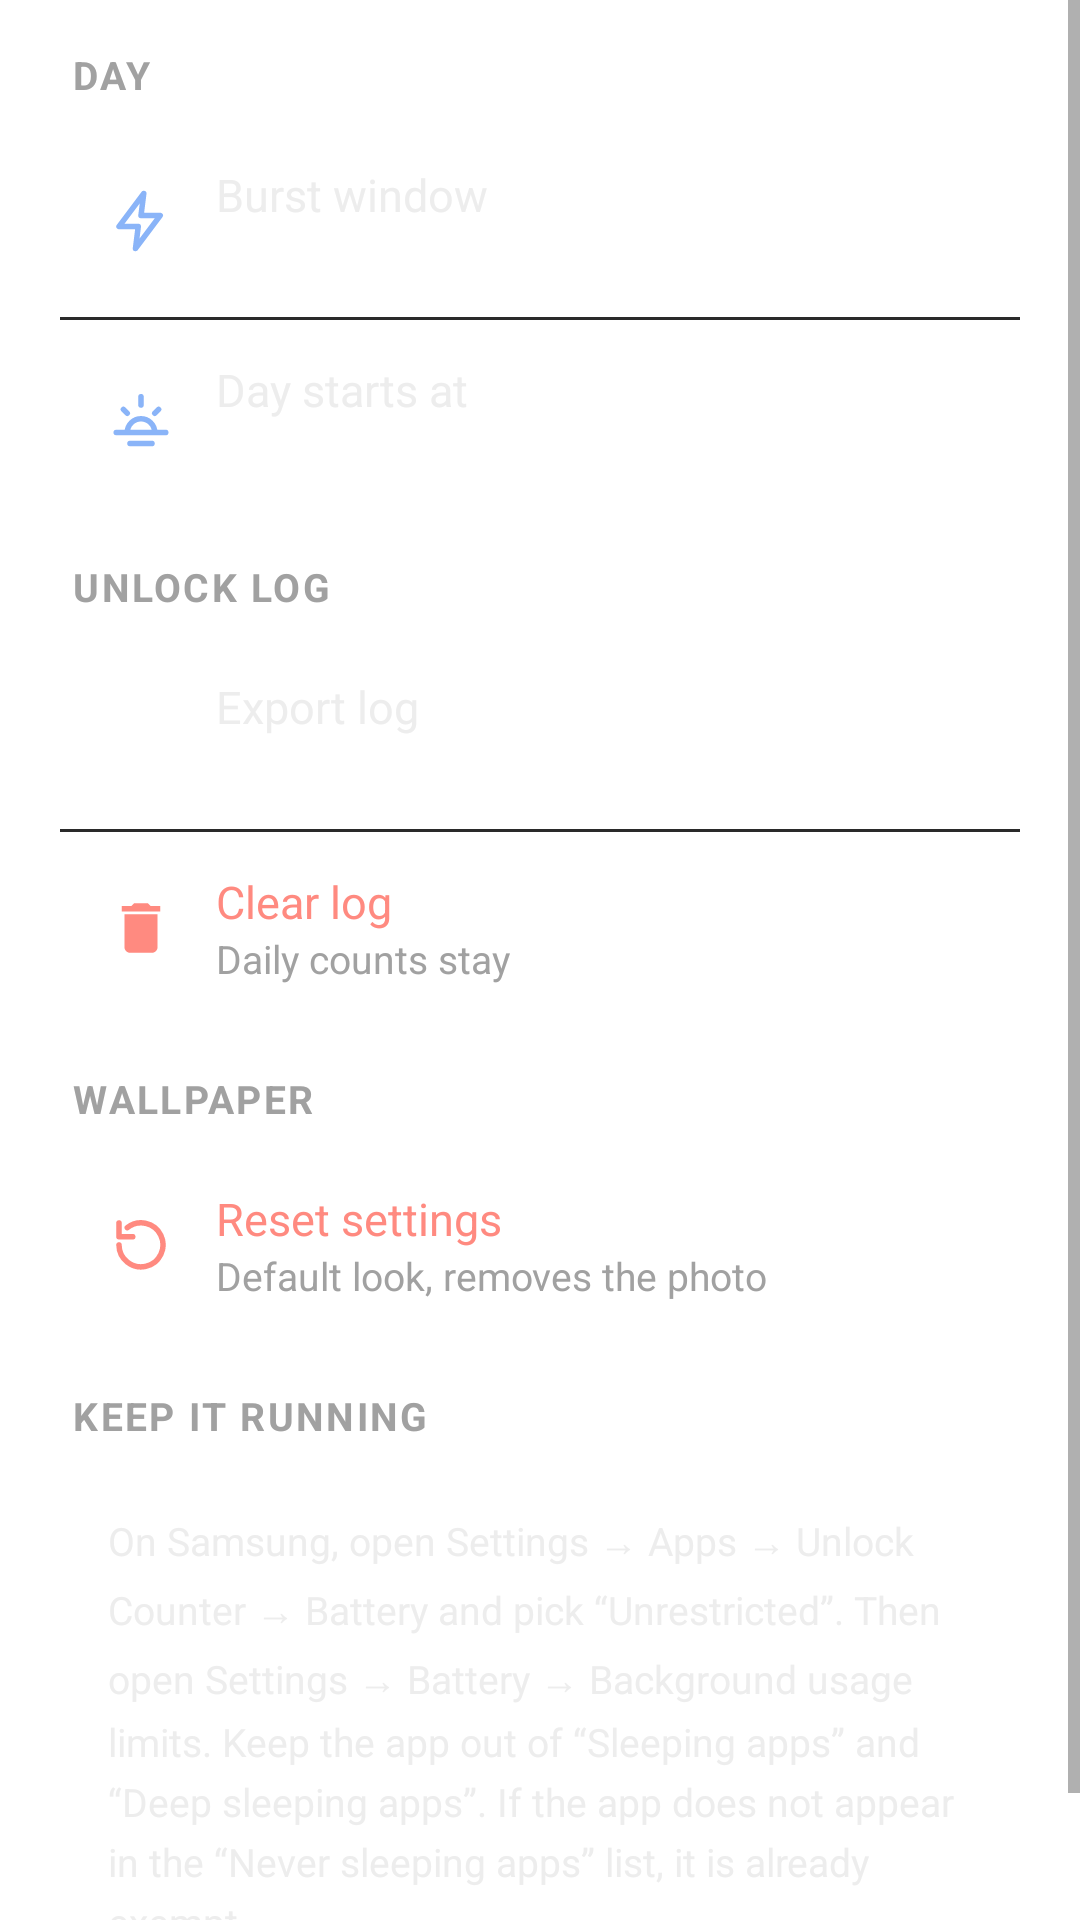

Locate icon controls on the screen. Image size 1080 × 1920, boxes as [x1=x1, y1=y1, x2=x2, y2=y2].
bolt: [x1=116, y1=190, x2=163, y2=252]
delete: [x1=121, y1=903, x2=161, y2=953]
sunrise: [x1=113, y1=394, x2=169, y2=447]
